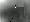person: (18, 5, 25, 18)
